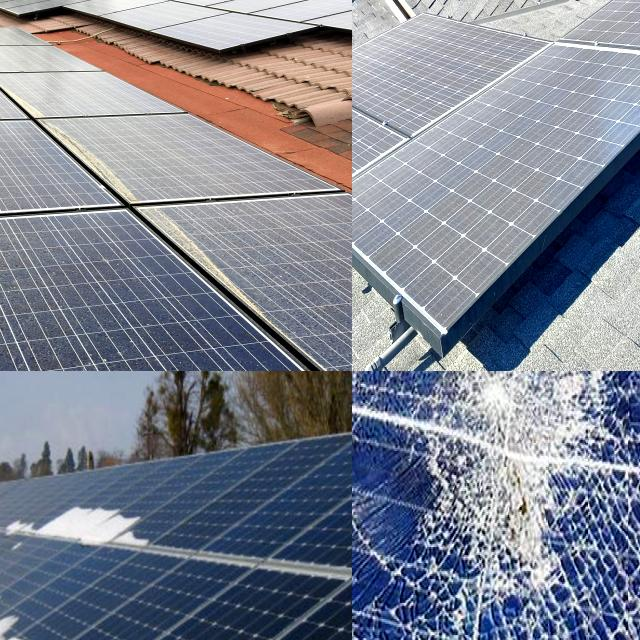dust: (0, 246, 176, 335), (370, 157, 490, 255), (244, 225, 352, 318), (463, 100, 597, 158), (0, 125, 76, 222), (362, 50, 462, 99), (570, 39, 640, 109), (352, 126, 418, 172), (478, 51, 554, 88)
hotspot: (415, 371, 608, 606), (352, 371, 434, 469), (616, 371, 640, 640), (352, 564, 409, 640)
panel: (0, 493, 153, 575), (0, 512, 58, 600), (0, 475, 53, 539)
